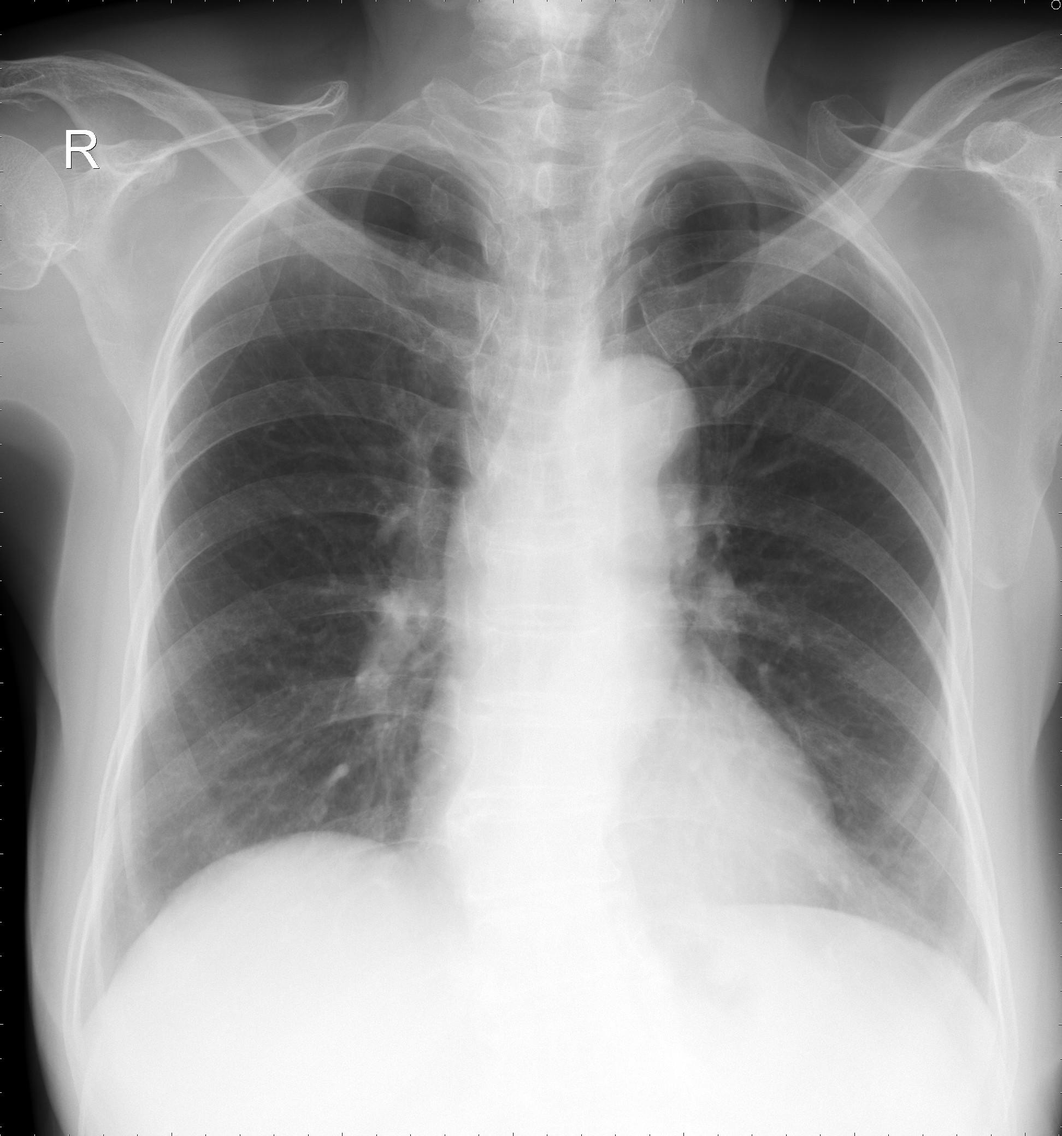Aortic enlargement: (554, 349, 700, 494)
